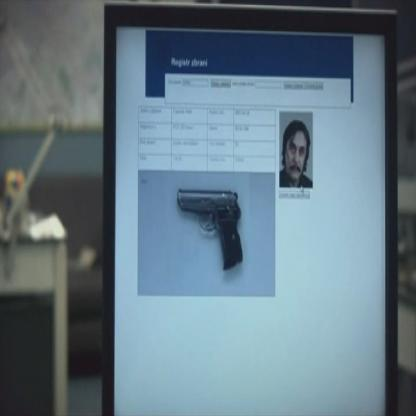Gun: (175, 184, 248, 272)
